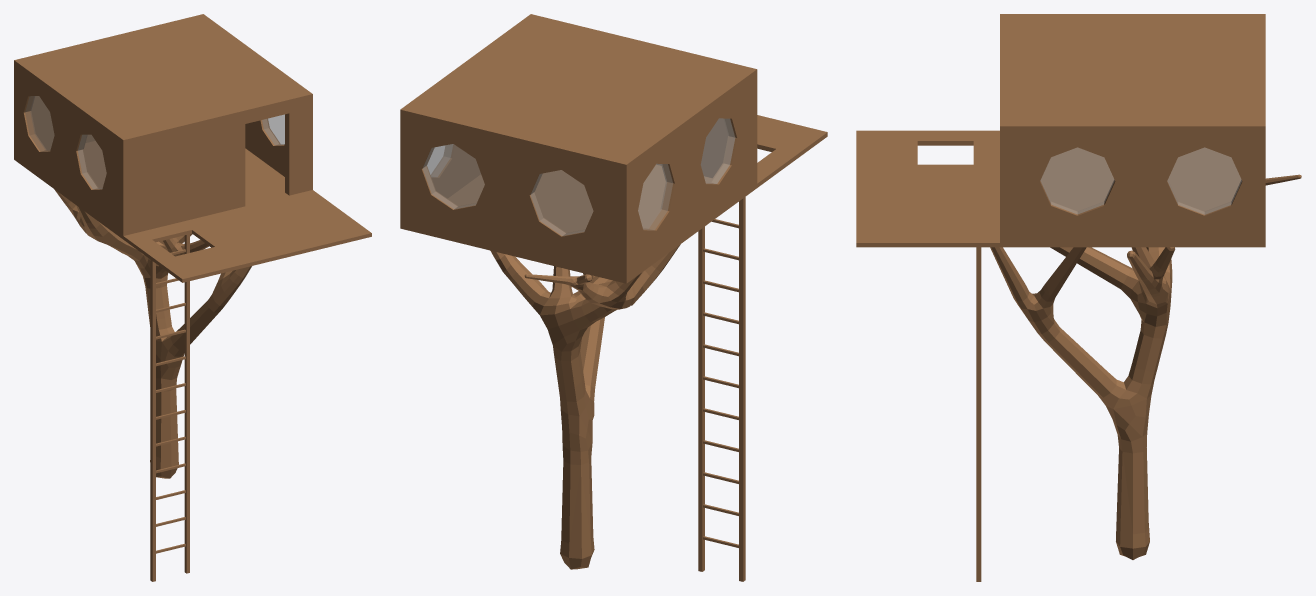
The model's file is Treehouse_1.fbx.
3 renders of one model, left to right at view 1: azimuth 30°, elevation 25°; view 2: azimuth 150°, elevation 25°; view 3: azimuth 270°, elevation 25°, orthographic. The views are drawn at different scales.
Parts seen in each view (by area): view 1: Treehouse_mesh; view 2: Treehouse_mesh; view 3: Treehouse_mesh.
Part boxes in pixels (x1,y1,x2,y2): Treehouse_mesh: [14, 14, 371, 581]; Treehouse_mesh: [400, 14, 827, 581]; Treehouse_mesh: [856, 14, 1301, 581].
Bounding box in the file's own units: 493 × 1051 × 794.
